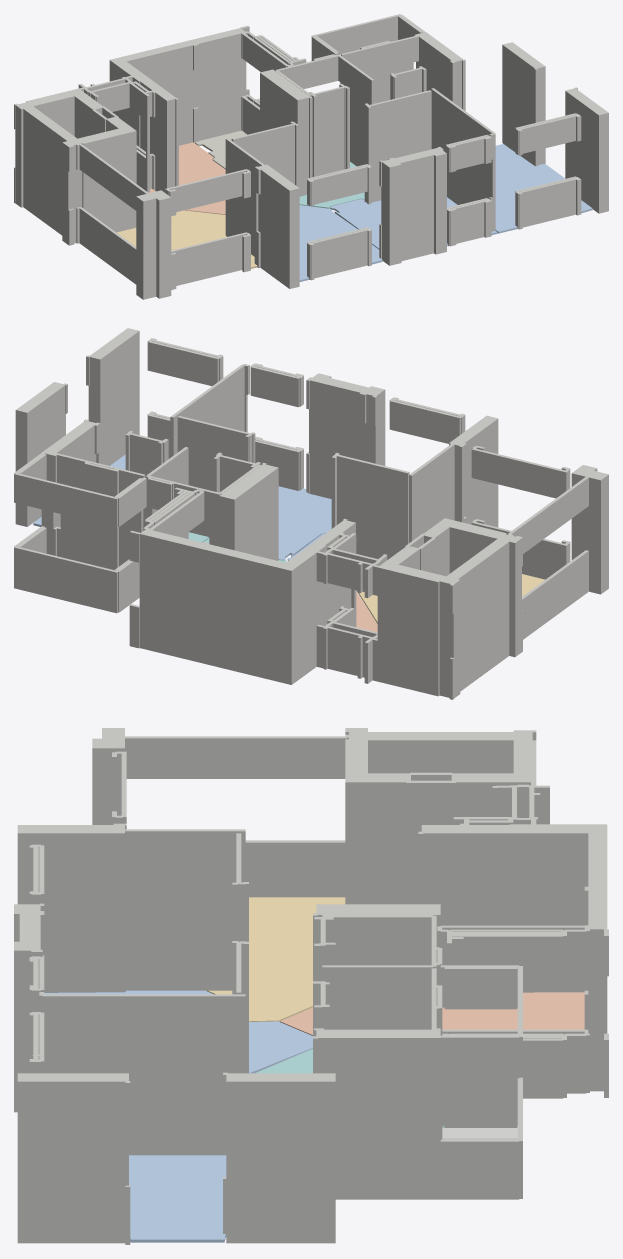
3 views of the same model, one above another, from view 1: azimuth 30°, elevation 25°; view 2: azimuth 150°, elevation 25°; view 3: azimuth 270°, elevation 25° (orthographic). The views are drawn at different scales.
Visible parts, largest first — view 1: walls, room:bedroom:9, room:living:3, room:bedroom:7, room:kitchen:0, room:bedroom:8, room:yard:4, room:bath:2; view 2: walls, room:bedroom:8, room:living:3, room:kitchen:0; view 3: walls, room:bedroom:9, room:living:3, room:kitchen:0, room:bedroom:7, room:bath:2, room:ledge:1.
Boxes of the visible parts, x1,y1,x2,y2 form: walls: (14,14,608,299); room:bedroom:9: (495,144,592,233); room:living:3: (116,210,257,268); room:bedroom:7: (299,205,382,281); room:kitchen:0: (149,142,225,214); room:bedroom:8: (330,197,497,249); room:yard:4: (195,130,246,169); room:bath:2: (299,162,364,208); walls: (14,328,608,699); room:bedroom:8: (278,486,331,560); room:living:3: (356,574,544,623); room:kitchen:0: (356,592,377,632); walls: (14,728,608,1244); room:bedroom:9: (129,1155,226,1242); room:living:3: (207,897,345,1021); room:kitchen:0: (280,992,584,1035); room:bedroom:7: (44,990,312,1073); room:bath:2: (255,1049,312,1073); room:ledge:1: (442,1126,517,1139).
Bounding box in the file's own units: 13.16 × 2.8 × 9.32.
